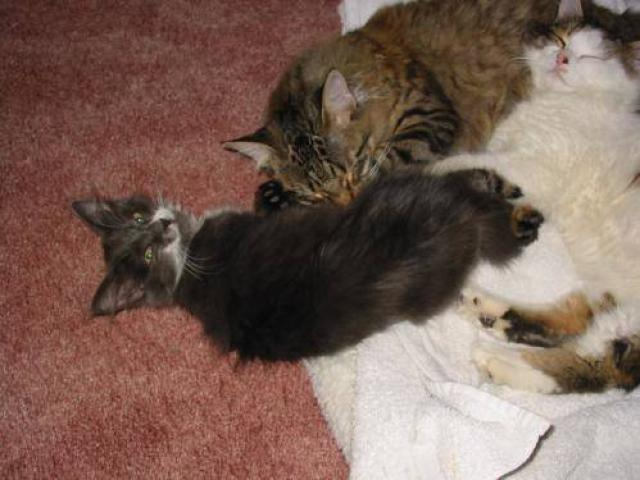cat: (93, 189, 508, 383)
